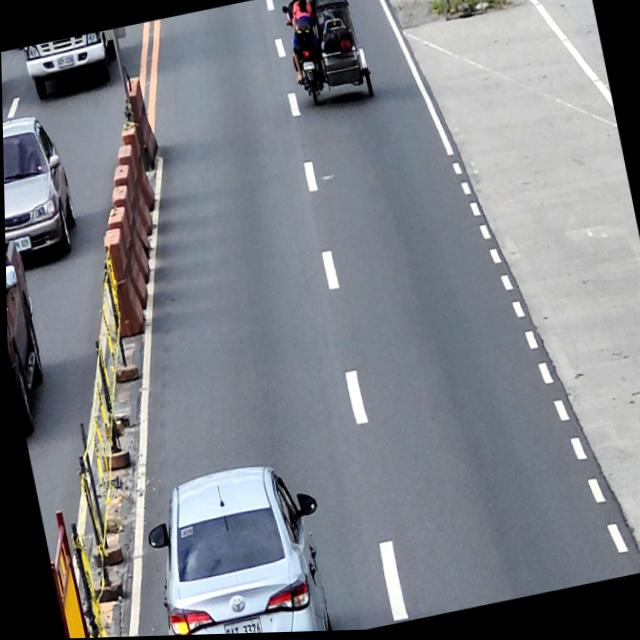Car: (134, 453, 339, 637), (2, 108, 80, 266), (4, 205, 55, 434), (22, 30, 117, 102)
License-Plate: (218, 616, 261, 635), (7, 234, 31, 254), (55, 53, 75, 69), (301, 61, 314, 73)
Tricycle: (279, 0, 375, 113)
